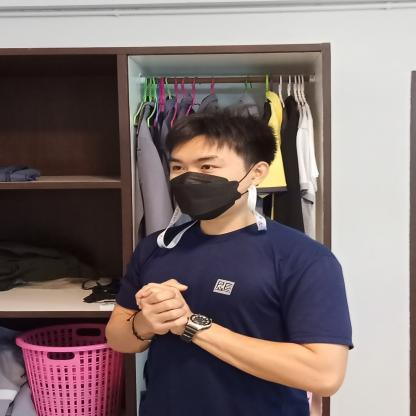Grieve: (106, 269, 233, 364)
